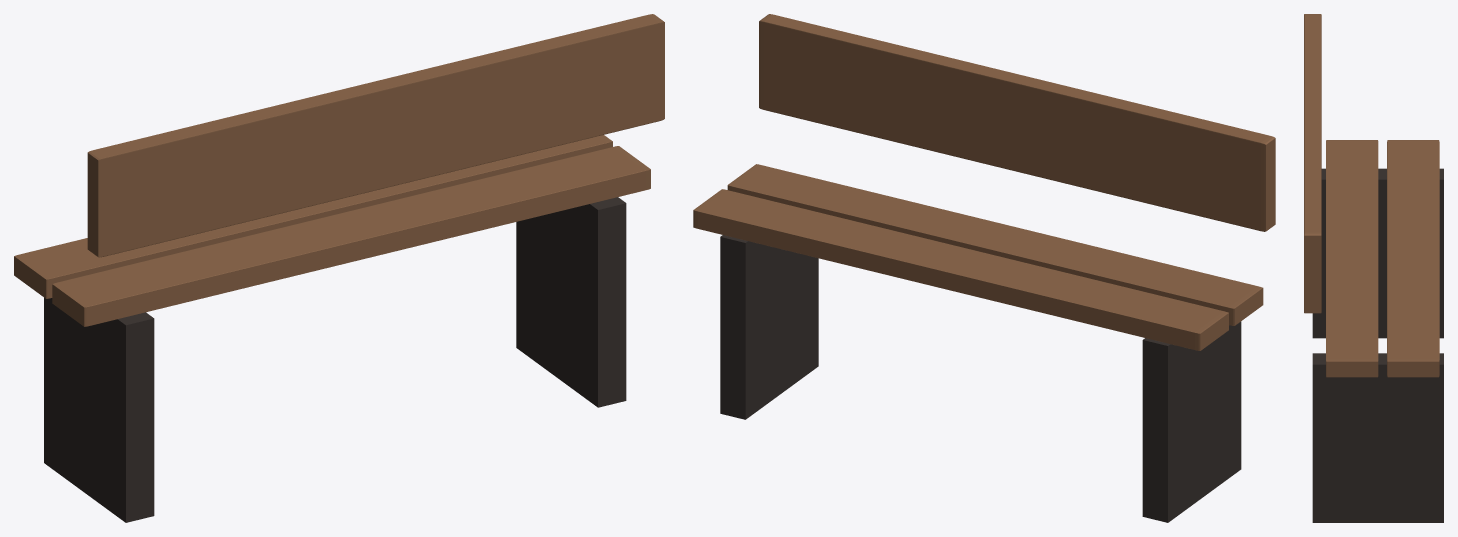
The model's file is bench.glb.
3 renders of one model, left to right at view 1: azimuth 30°, elevation 25°; view 2: azimuth 150°, elevation 25°; view 3: azimuth 270°, elevation 25°, orthographic. The views are drawn at different scales.
Visible parts, largest first — view 1: Cube.002, Cube, Cube.003, Cube.004, Cube.001; view 2: Cube.002, Cube.001, Cube, Cube.003, Cube.004; view 3: Cube.004, Cube, Cube.001, Cube.002, Cube.003.
Part boxes in pixels (bbox=[...]): Cube.002: bbox=[87, 14, 664, 257]; Cube: bbox=[52, 146, 650, 326]; Cube.003: bbox=[44, 297, 154, 522]; Cube.004: bbox=[516, 197, 626, 407]; Cube.001: bbox=[14, 135, 612, 298]; Cube.002: bbox=[759, 14, 1275, 231]; Cube.001: bbox=[693, 189, 1228, 350]; Cube: bbox=[727, 164, 1263, 325]; Cube.003: bbox=[1142, 321, 1241, 522]; Cube.004: bbox=[720, 235, 818, 419]; Cube.004: bbox=[1312, 353, 1443, 522]; Cube: bbox=[1326, 140, 1378, 377]; Cube.001: bbox=[1387, 140, 1439, 377]; Cube.002: bbox=[1304, 14, 1321, 313]; Cube.003: bbox=[1312, 168, 1443, 338].
Bounding box in the file's own units: 1.2 × 0.76 × 0.32.
